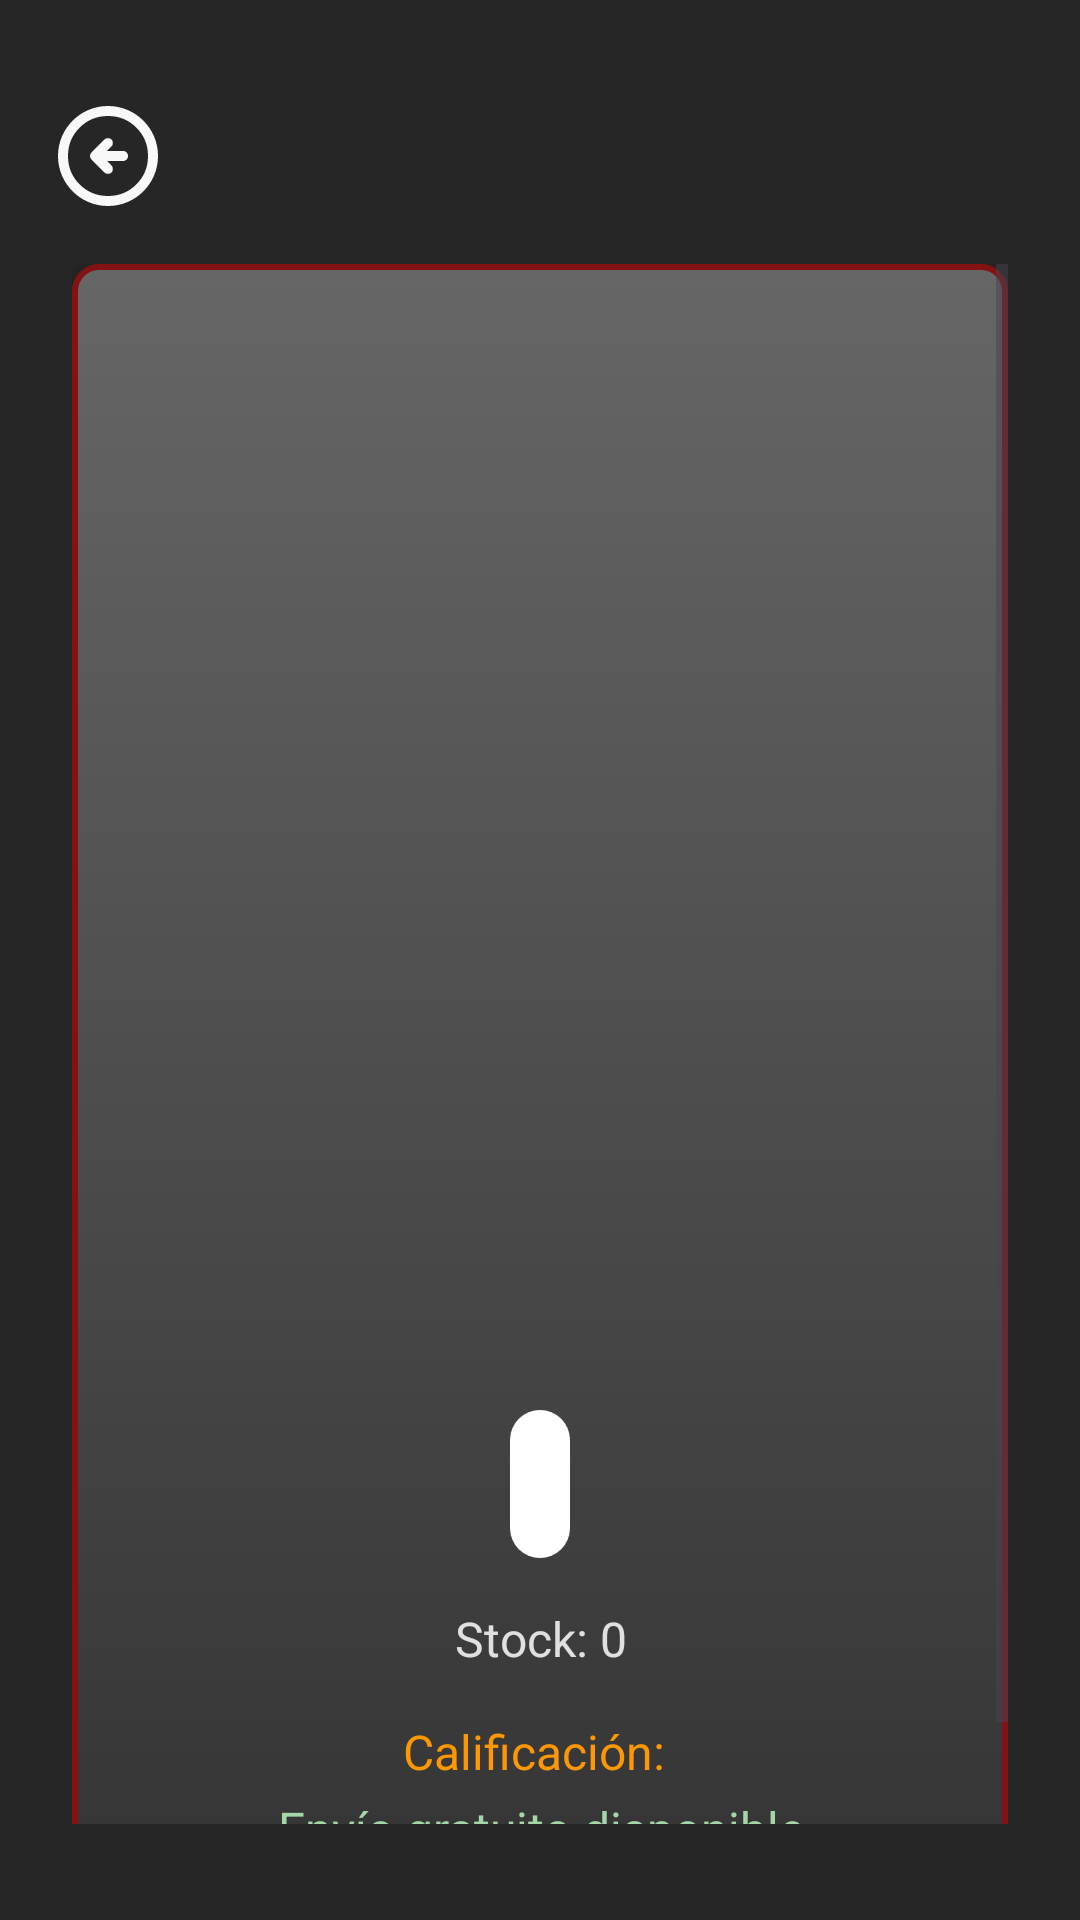

Point at icon controls on the screen. Image size 1080 × 1920, points as (x=x, y=y).
arrow back: (x=108, y=156)
